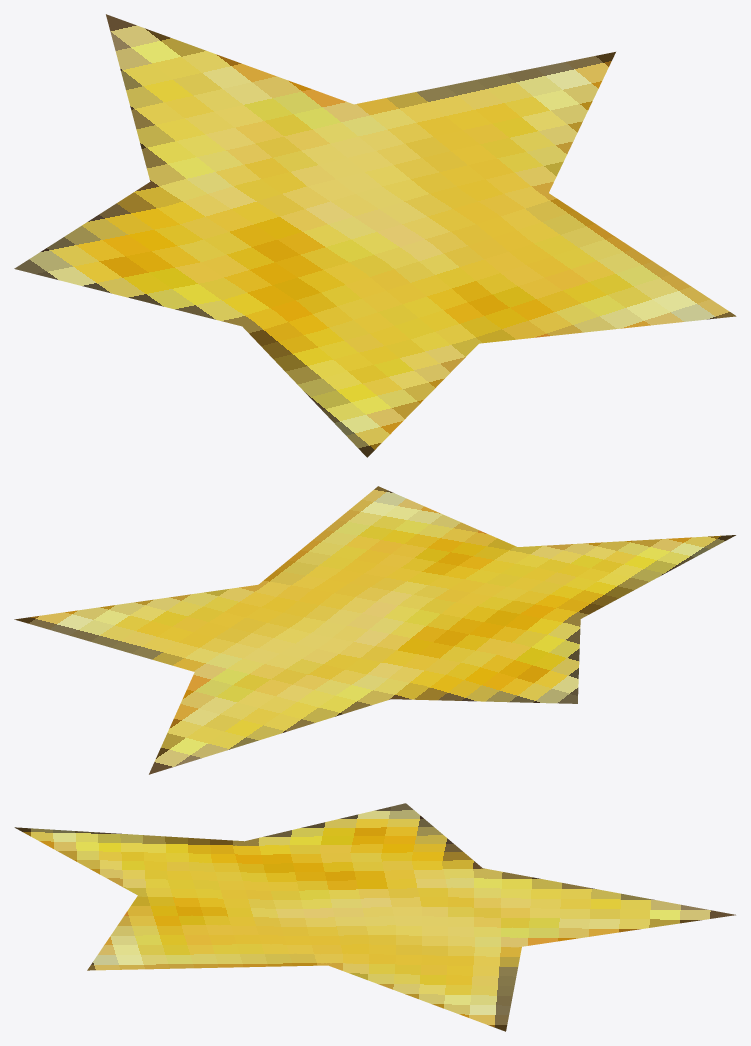
Rendered from xingxing_01.FBX.
The picture shows the model from 3 angles, top to bottom: view 1: azimuth 30°, elevation 25°; view 2: azimuth 150°, elevation 25°; view 3: azimuth 270°, elevation 25°; orthographic projection. The views are drawn at different scales.
Visible parts, largest first — view 1: xingxing01; view 2: xingxing01; view 3: xingxing01.
Boxes of the visible parts, x1,y1,x2,y2 form: xingxing01: [14, 14, 736, 457]; xingxing01: [14, 486, 735, 774]; xingxing01: [14, 803, 735, 1031].
Bounding box in the file's own units: 21.81 × 1.78e-15 × 29.13.
